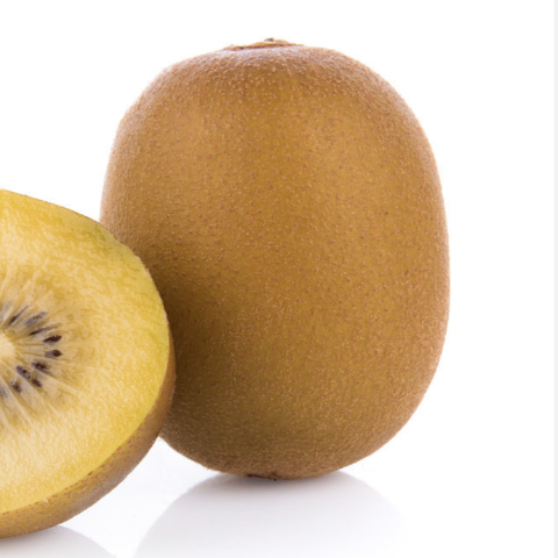kiwi: (41, 21, 517, 530)
